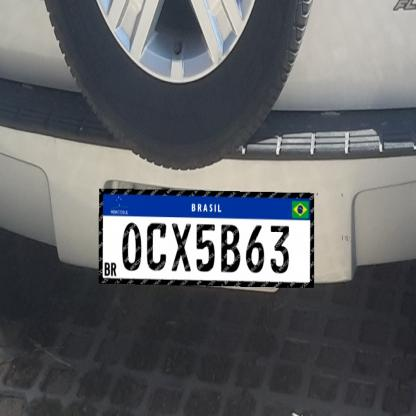PlacaM: (99, 189, 314, 288)
